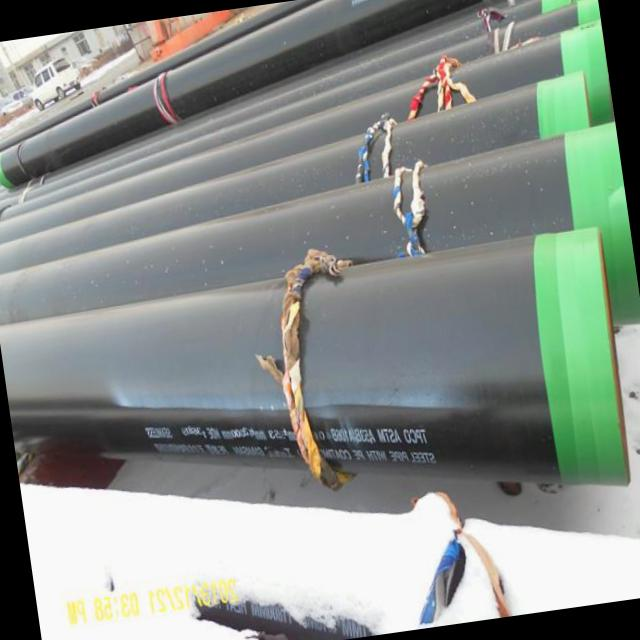gas: (0, 123, 640, 484), (0, 0, 481, 187), (0, 81, 419, 243), (0, 137, 362, 272), (248, 9, 482, 120), (394, 85, 540, 164), (460, 45, 564, 96), (500, 0, 580, 15)
